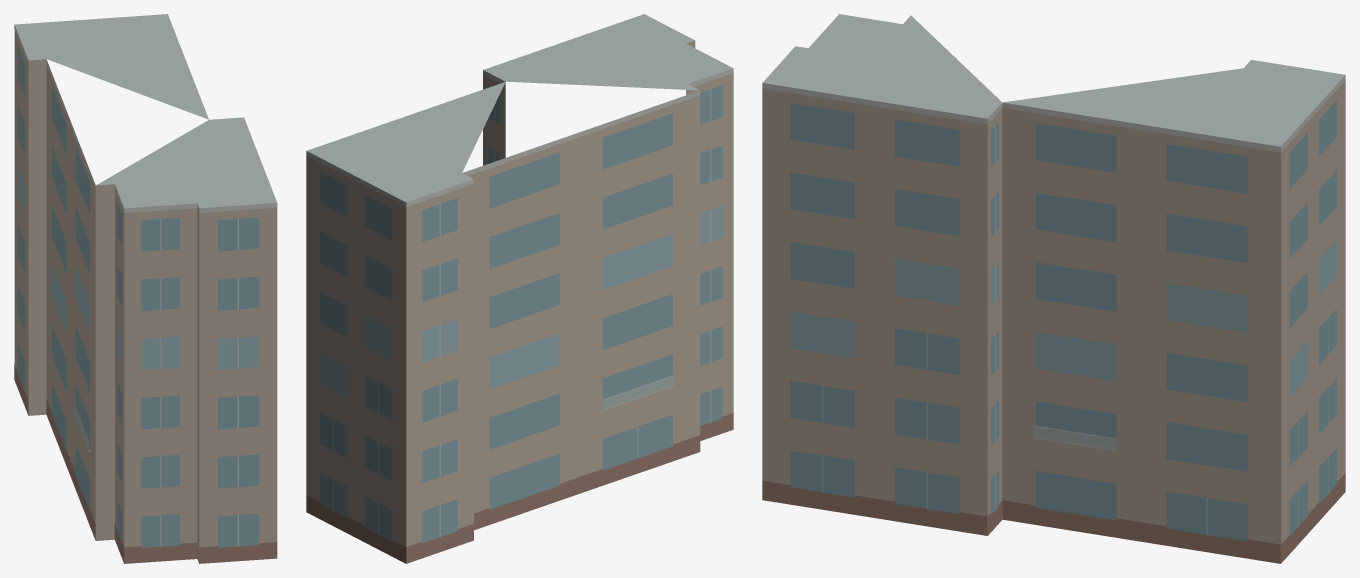
Rendered from survey-upis-32618666.glb.
3 views of the same model, side by side, from view 1: azimuth 30°, elevation 25°; view 2: azimuth 150°, elevation 25°; view 3: azimuth 270°, elevation 25° (orthographic). The views are drawn at different scales.
Visible parts, largest first — view 1: survey-upis-32618666.tmp; view 2: survey-upis-32618666.tmp; view 3: survey-upis-32618666.tmp.
Boxes of the visible parts, <box> form: survey-upis-32618666.tmp: <box>14,14,277,563</box>; survey-upis-32618666.tmp: <box>306,14,733,563</box>; survey-upis-32618666.tmp: <box>762,14,1345,563</box>.
Bounding box in the file's own units: 12.5 × 18.3 × 23.2.
